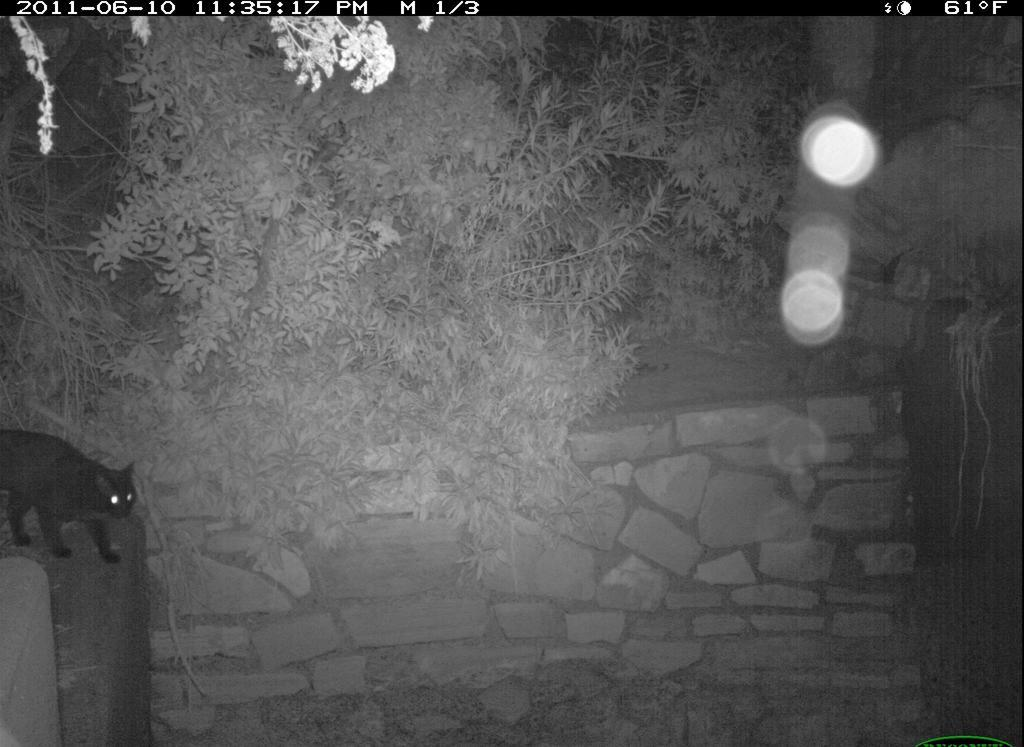cat: (1, 428, 141, 568)
